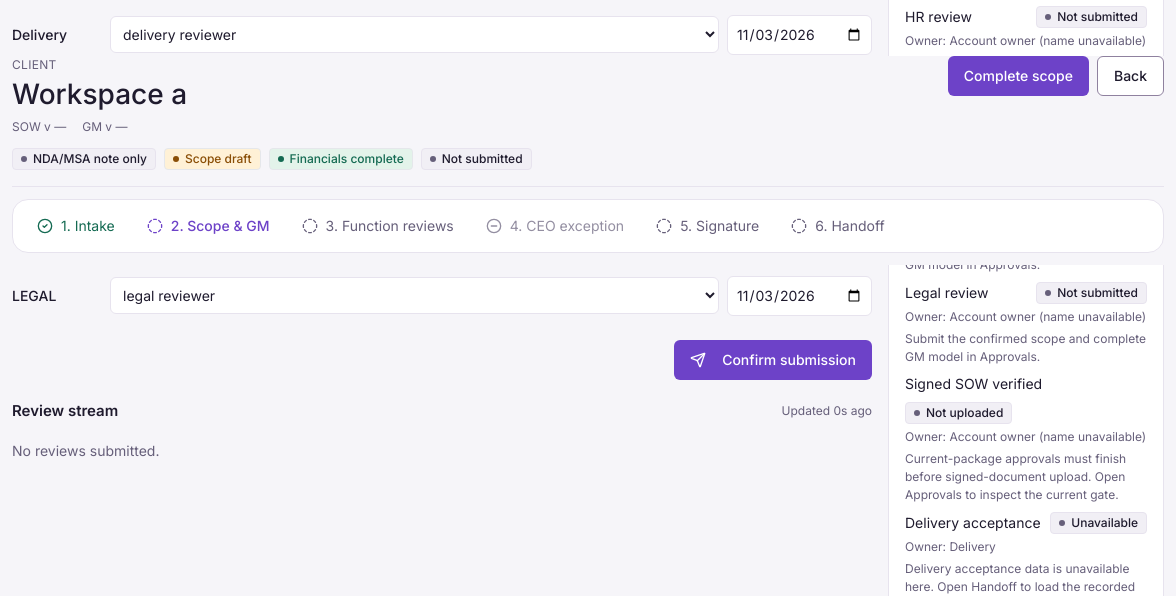
a submission resolving during another workspace load cannot refresh the old route
The width and height of the screenshot is (1176, 596).
(page scrolled)
Click the button "Confirm submission" at point(773, 360), box x1=674 y1=340 x2=872 y2=380
(page scrolled)
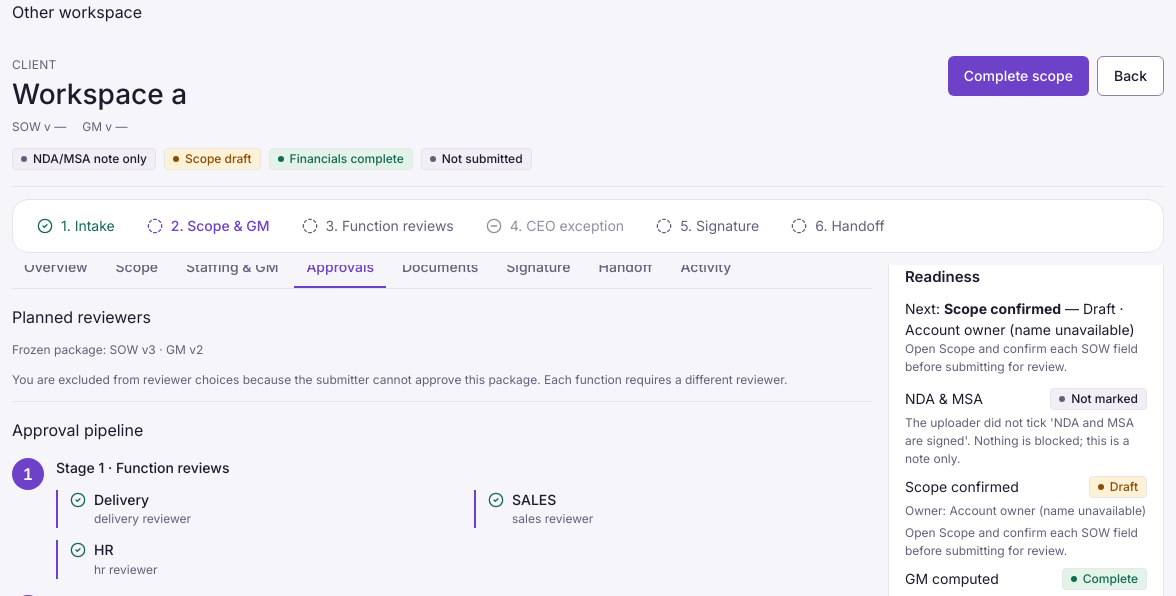
Click the link "Other workspace" at point(77, 12), box x1=12 y1=2 x2=142 y2=22
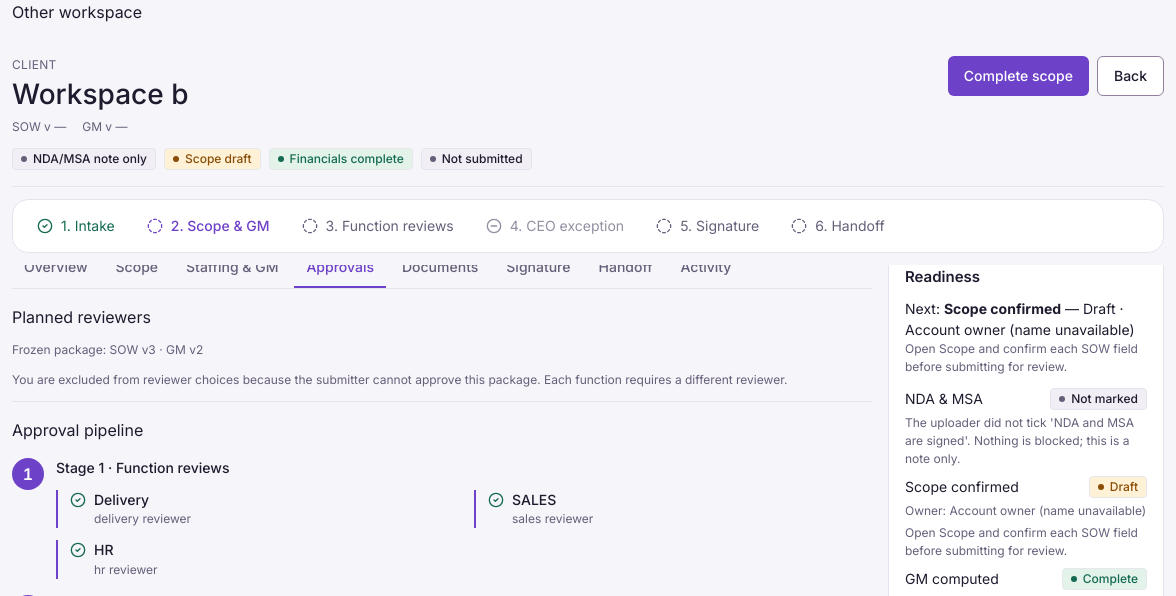
Check: the heading "Workspace b" is shown, box x1=12 y1=77 x2=188 y2=111
